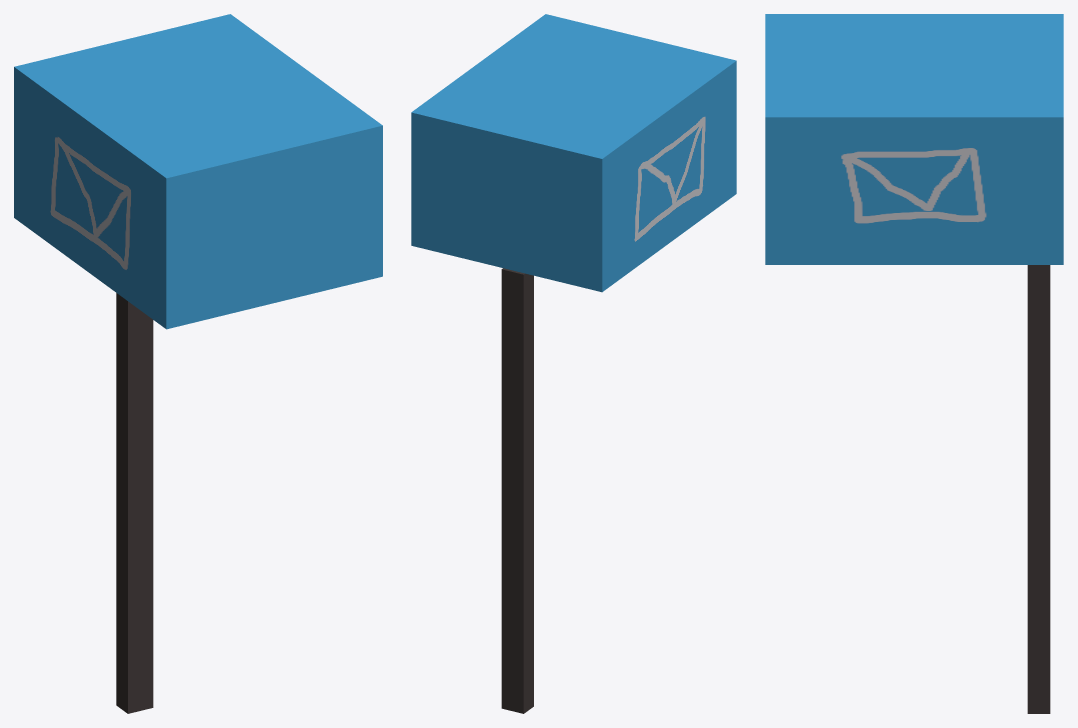
The model's file is Skrzynka-pocztowa.fbx.
3 views of the same model, side by side, from view 1: azimuth 30°, elevation 25°; view 2: azimuth 150°, elevation 25°; view 3: azimuth 270°, elevation 25° (orthographic). The views are drawn at different scales.
Visible parts, largest first — view 1: Cube, Cube.001; view 2: Cube, Cube.001; view 3: Cube, Cube.001.
Boxes of the visible parts, left/top/right/bottom form: Cube: left=14, top=14, right=382, bottom=329; Cube.001: left=116, top=293, right=153, bottom=713; Cube: left=411, top=14, right=736, bottom=292; Cube.001: left=501, top=268, right=533, bottom=713; Cube: left=765, top=14, right=1063, bottom=264; Cube.001: left=1027, top=265, right=1050, bottom=713.
Size of the model in its own units: 200 by 580 by 244.
